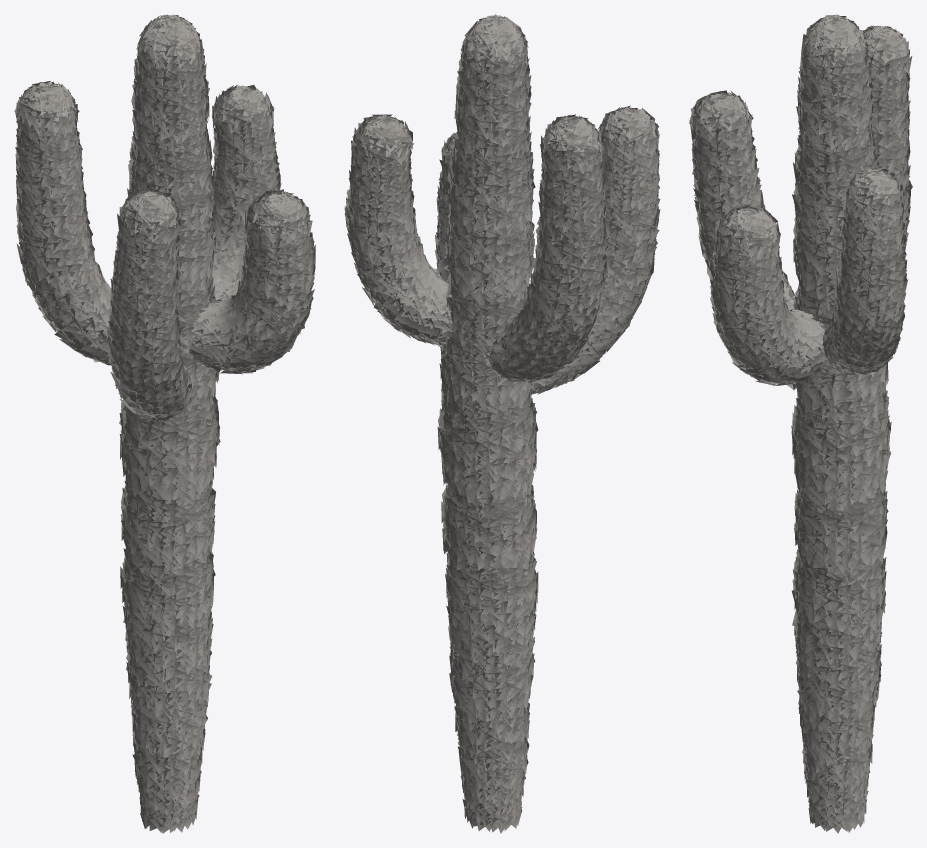
File: saguaro_cactus.glb
The picture shows the model from 3 angles, left to right: view 1: azimuth 30°, elevation 25°; view 2: azimuth 150°, elevation 25°; view 3: azimuth 270°, elevation 25°; orthographic projection.
Visible parts, largest first — view 1: Carnegiea_gigantea_HD; view 2: Carnegiea_gigantea_HD; view 3: Carnegiea_gigantea_HD.
Part boxes in pixels (bbox=[...]): Carnegiea_gigantea_HD: bbox=[14, 14, 315, 833]; Carnegiea_gigantea_HD: bbox=[344, 14, 660, 833]; Carnegiea_gigantea_HD: bbox=[689, 14, 912, 833].
Size of the model in its own units: 1.39 by 4.2 by 1.06.
3 materials, 3 textured.
